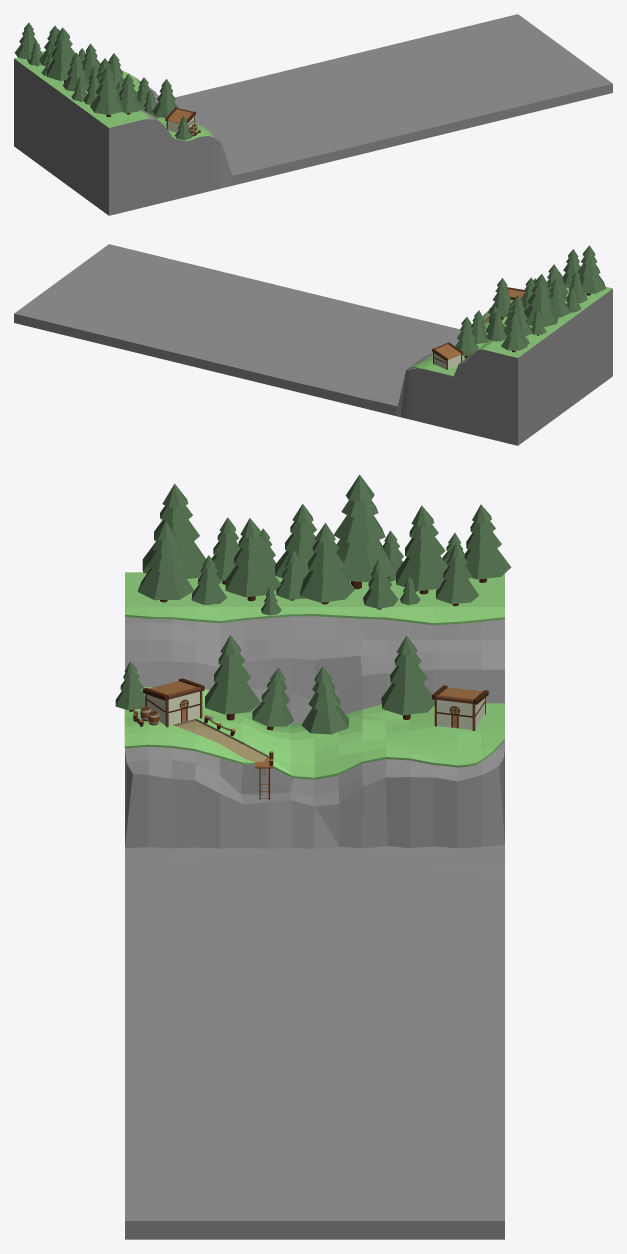
The model's file is map.fbx.
3 views of the same model, one above another, from view 1: azimuth 30°, elevation 25°; view 2: azimuth 150°, elevation 25°; view 3: azimuth 270°, elevation 25° (orthographic). The views are drawn at different scales.
Parts seen in each view (by area): view 1: Cube, sapin 1.013, sapin 1.015, sapin 1.004, sapin 1.002, sapin 1.008, Cube.013, sapin 1.019, sapin 1.021, sapin 1.009, sapin 1.006; view 2: Cube, sapin 1.015, sapin 1.013, Cube.015, sapin 1.019, sapin 1.006, sapin 1.002, sapin 1.008, sapin 1.009, sapin 1.004, sapin 1.007, sapin 1.020 (+1 smaller); view 3: Cube, sapin 1.015, sapin 1.009, sapin 1.002, sapin 1.006, sapin 1.003, sapin 1.021, sapin 1.004, sapin 1.013, sapin 1.019, Cube.013, Cube.015 (+7 smaller).
Boxes of the visible parts, x1,y1,x2,y2 form: Cube: (14, 14, 612, 215); sapin 1.013: (90, 66, 123, 116); sapin 1.015: (47, 27, 75, 82); sapin 1.004: (119, 74, 142, 114); sapin 1.002: (152, 79, 178, 118); sapin 1.008: (62, 52, 89, 91); Cube.013: (165, 107, 195, 132); sapin 1.019: (14, 22, 36, 60); sapin 1.021: (82, 43, 99, 80); sapin 1.009: (39, 25, 59, 66); sapin 1.006: (109, 53, 124, 86); Cube: (14, 244, 612, 445); sapin 1.015: (524, 274, 559, 326); sapin 1.013: (577, 245, 605, 295); Cube.015: (432, 342, 463, 369); sapin 1.019: (501, 313, 527, 352); sapin 1.006: (455, 317, 478, 358); sapin 1.002: (488, 278, 511, 319); sapin 1.008: (549, 278, 570, 317); sapin 1.009: (504, 294, 532, 335); sapin 1.004: (562, 249, 580, 287); sapin 1.007: (471, 310, 489, 343); sapin 1.020: (486, 311, 507, 341); Cube: (124, 572, 504, 1239); sapin 1.015: (334, 474, 396, 589); sapin 1.009: (395, 505, 447, 594); sapin 1.002: (205, 635, 260, 720); sapin 1.006: (381, 635, 434, 719); sapin 1.003: (225, 518, 280, 601); sapin 1.021: (300, 523, 354, 604); sapin 1.004: (137, 521, 194, 602); sapin 1.013: (142, 483, 205, 578); sapin 1.019: (464, 504, 511, 582); Cube.013: (142, 678, 204, 727); Cube.015: (432, 685, 488, 730).
Size of the model in its own units: 15461 by 4153 by 5220.
